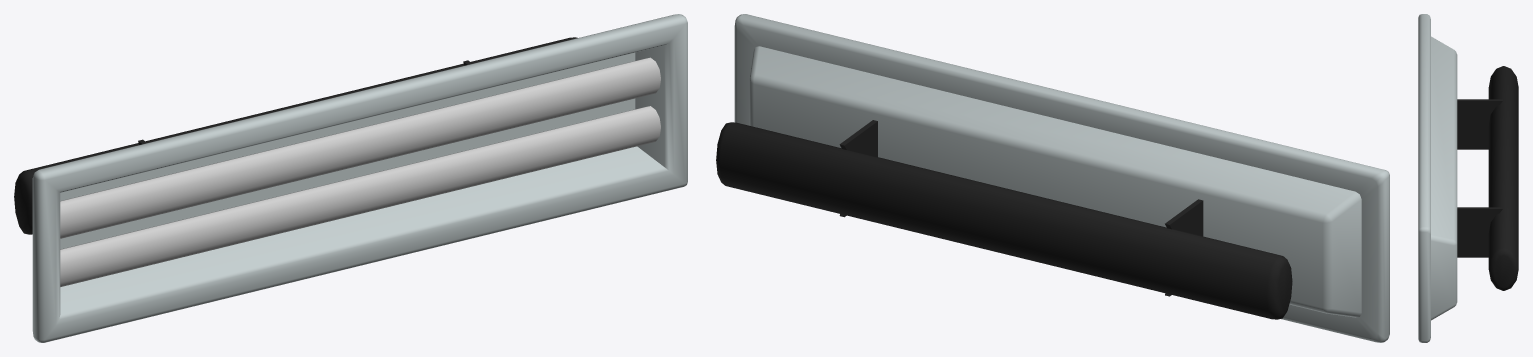
Rendered from Radiant-Heater-1.fbx.
3 views of the same model, side by side, from view 1: azimuth 30°, elevation 25°; view 2: azimuth 150°, elevation 25°; view 3: azimuth 270°, elevation 25° (orthographic). The views are drawn at different scales.
Parts seen in each view (by area): view 1: Radiant-Heater-1; view 2: Radiant-Heater-1; view 3: Radiant-Heater-1.
Boxes of the visible parts, box(x1,y1,x2,y2) form: Radiant-Heater-1: box(14, 14, 687, 342); Radiant-Heater-1: box(716, 14, 1389, 342); Radiant-Heater-1: box(1418, 14, 1518, 342).
Size of the model in its own units: 2 by 0.5 by 0.3928.
